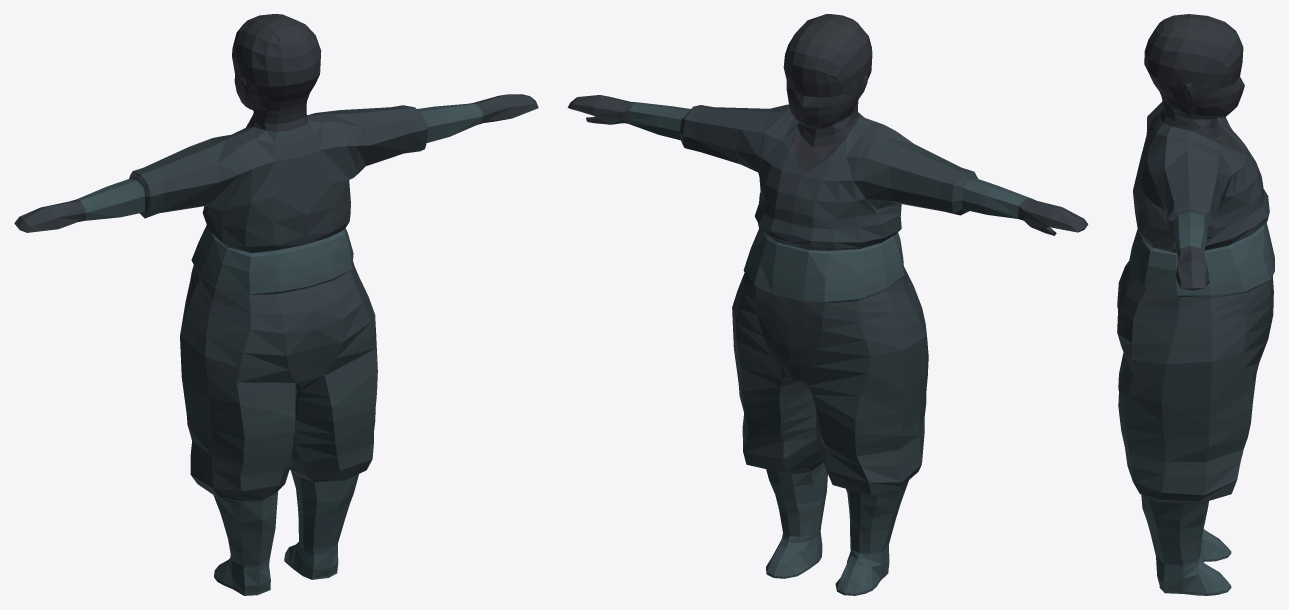
File: CharSkyNPC_Body_DirectorRig.glb
3 renders of one model, left to right at view 1: azimuth 30°, elevation 25°; view 2: azimuth 150°, elevation 25°; view 3: azimuth 270°, elevation 25°, orthographic.
Parts seen in each view (by area): view 1: CharSkyNPC_Body_DirectorRig; view 2: CharSkyNPC_Body_DirectorRig; view 3: CharSkyNPC_Body_DirectorRig.
Boxes of the visible parts, box(x1,y1,x2,y2) form: CharSkyNPC_Body_DirectorRig: box(14, 14, 538, 595); CharSkyNPC_Body_DirectorRig: box(567, 14, 1088, 595); CharSkyNPC_Body_DirectorRig: box(1117, 14, 1274, 595).
Size of the model in its own units: 14.41 by 14.76 by 3.82.
Materials: 1 (1 with a texture image).
